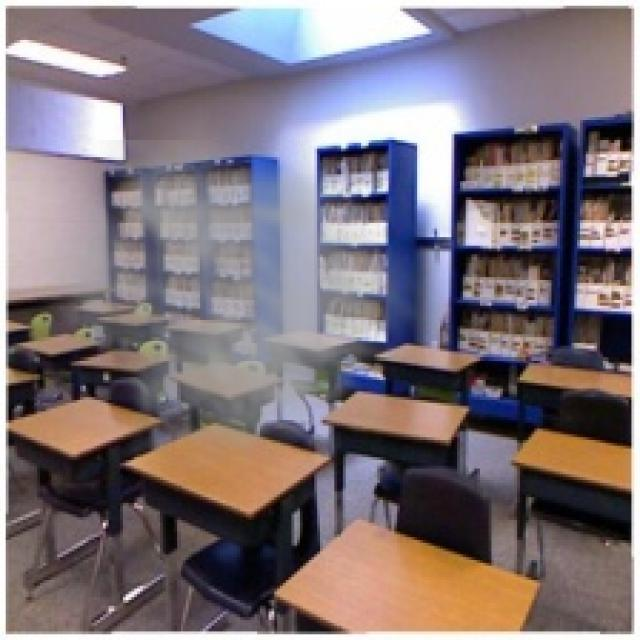Smoke: (26, 140, 437, 489)
